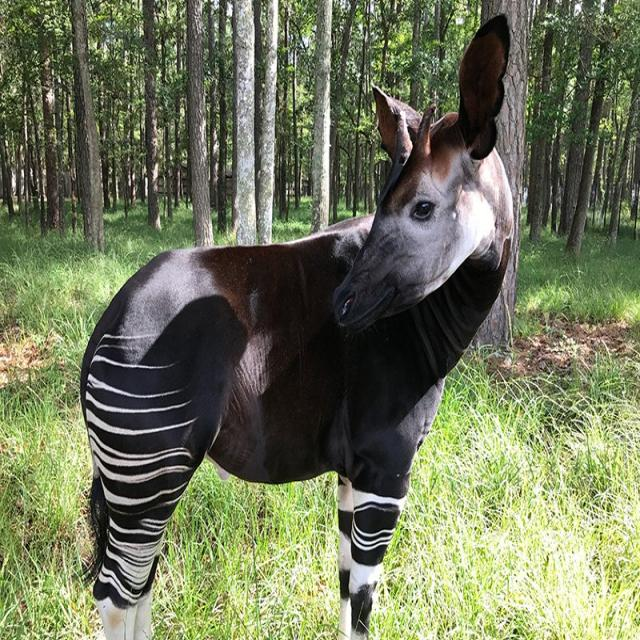Okapi: (66, 11, 522, 640)
